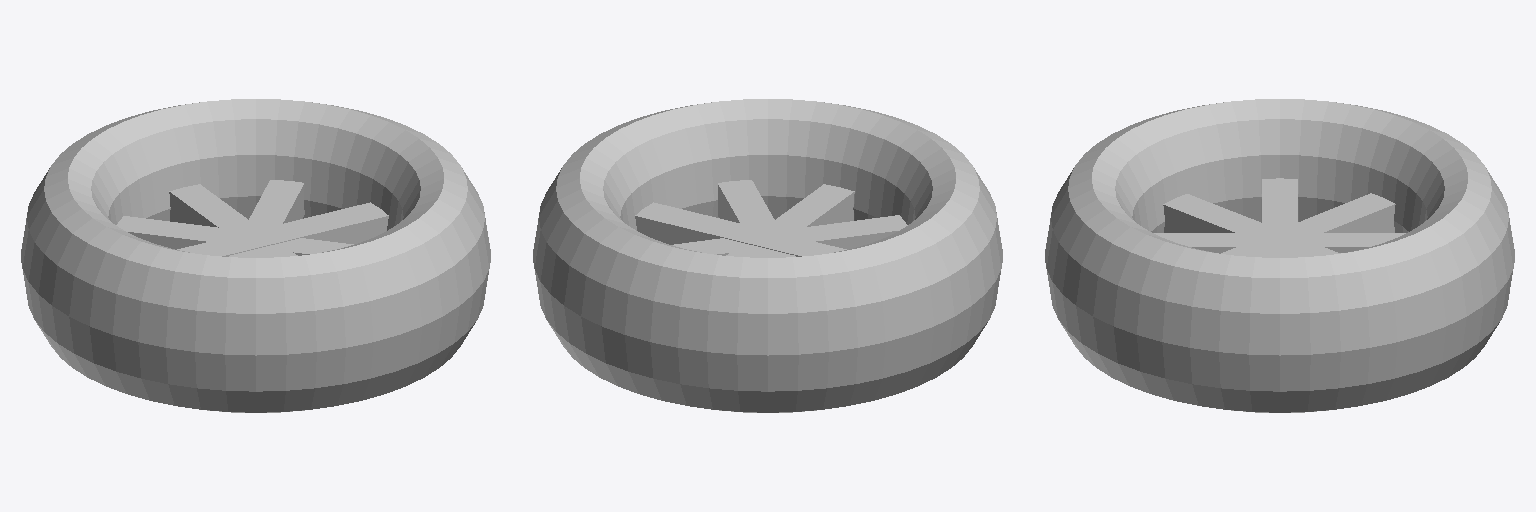
Rendered from wheel.obj.
3 views of the same model, side by side, from view 1: azimuth 30°, elevation 25°; view 2: azimuth 150°, elevation 25°; view 3: azimuth 270°, elevation 25° (orthographic).
Visible parts, largest first — view 1: Cube.003; view 2: Cube.003; view 3: Cube.003.
Boxes of the visible parts, <box> form: Cube.003: <box>21,99,490,412</box>; Cube.003: <box>533,99,1002,412</box>; Cube.003: <box>1045,99,1514,412</box>.
Size of the model in its own units: 1.81 by 0.6568 by 1.81.